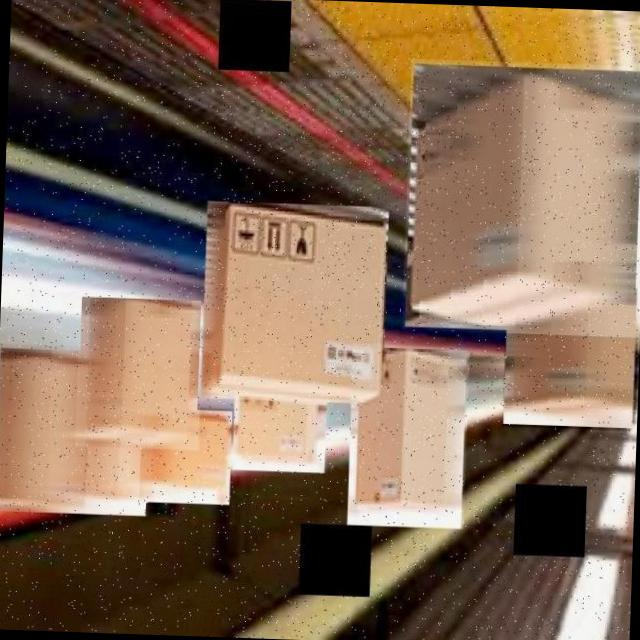box: (401, 58, 640, 337), (198, 197, 392, 406), (346, 341, 470, 528), (501, 279, 640, 431), (74, 293, 204, 450), (0, 343, 90, 515), (140, 406, 233, 506), (231, 387, 329, 473), (80, 426, 152, 516)
